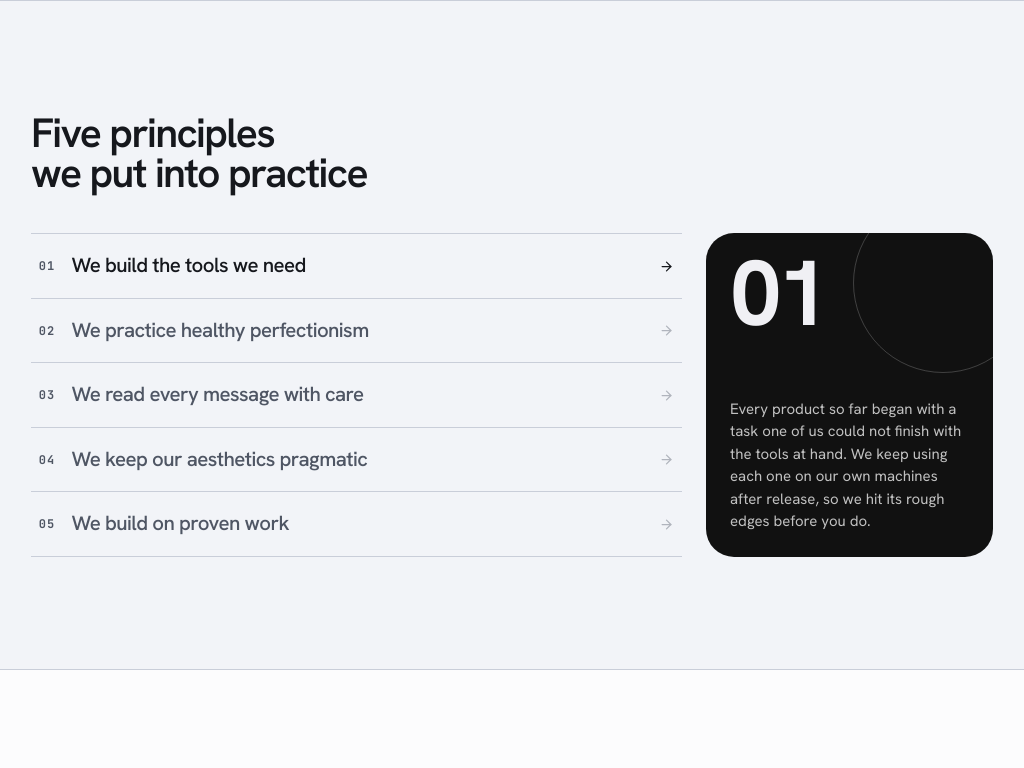
Practices › changes without moving when the reader asked for reduced motion
This screenshot has width=1024, height=768.
Click the tab "05 We build on proven work".
click(180, 523)  # box [31,491,682,557]
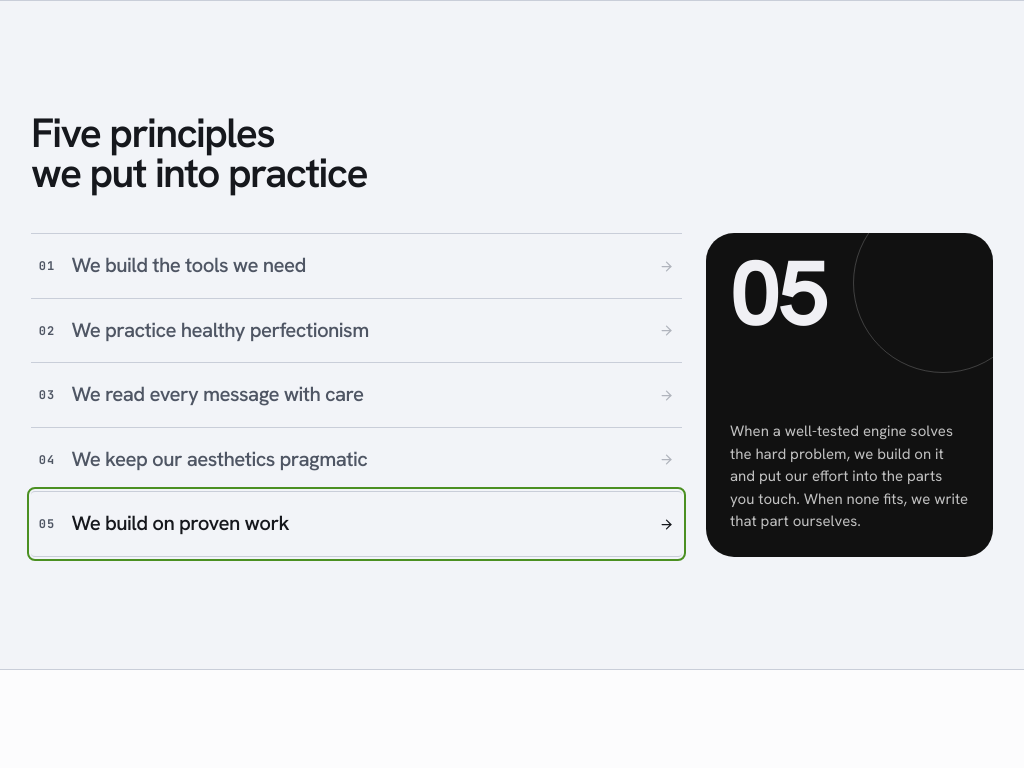
Expected: the panel shows "05", [730,233,826,353]
